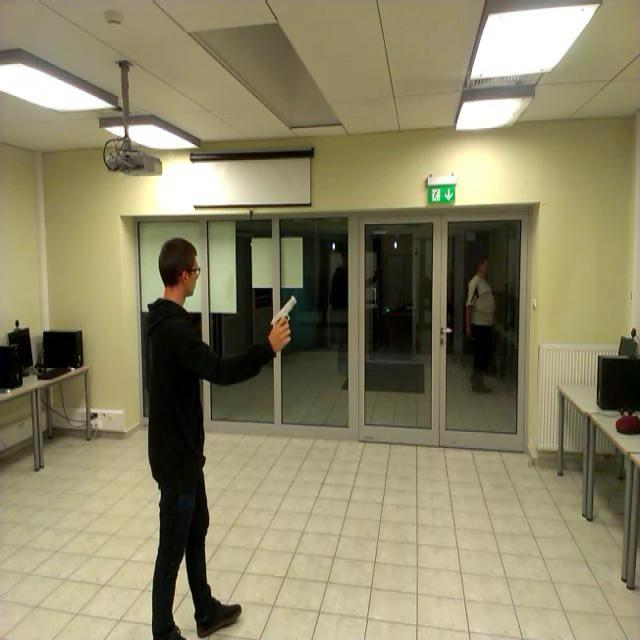weapon: (269, 296, 297, 344)
